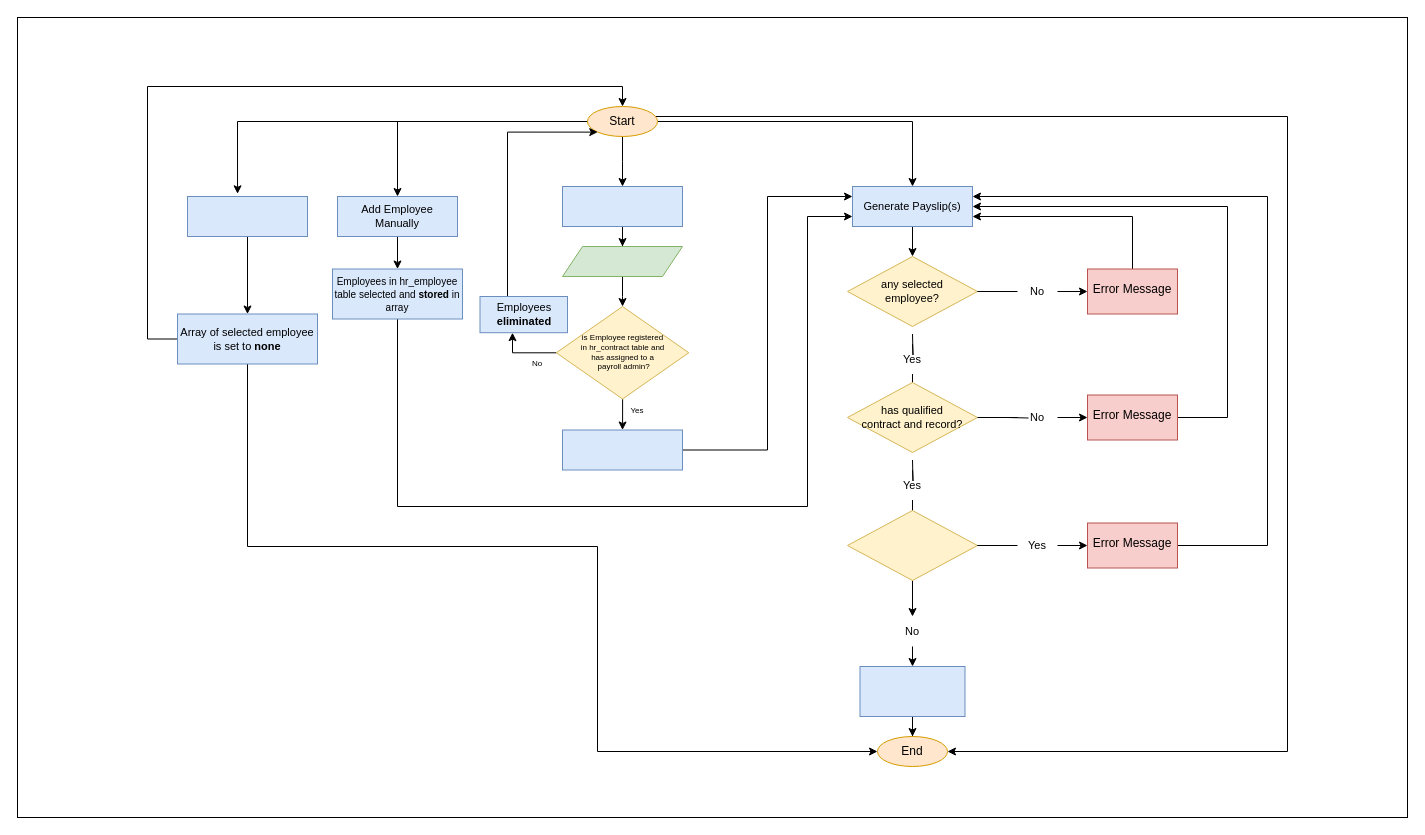
Some shapes in this 1425 by 835 pixel diagram are drawn without their labels. Here are the shapes that lost their labels. From the top down, the centre of each, then its label:
the point at 247,216: Deselect All
the point at 622,206: Select All
the point at 622,261: Employees id
the point at 622,449: Employees selected stored in array
the point at 912,545: Has the same period?
the point at 912,691: Generate Payslips success
